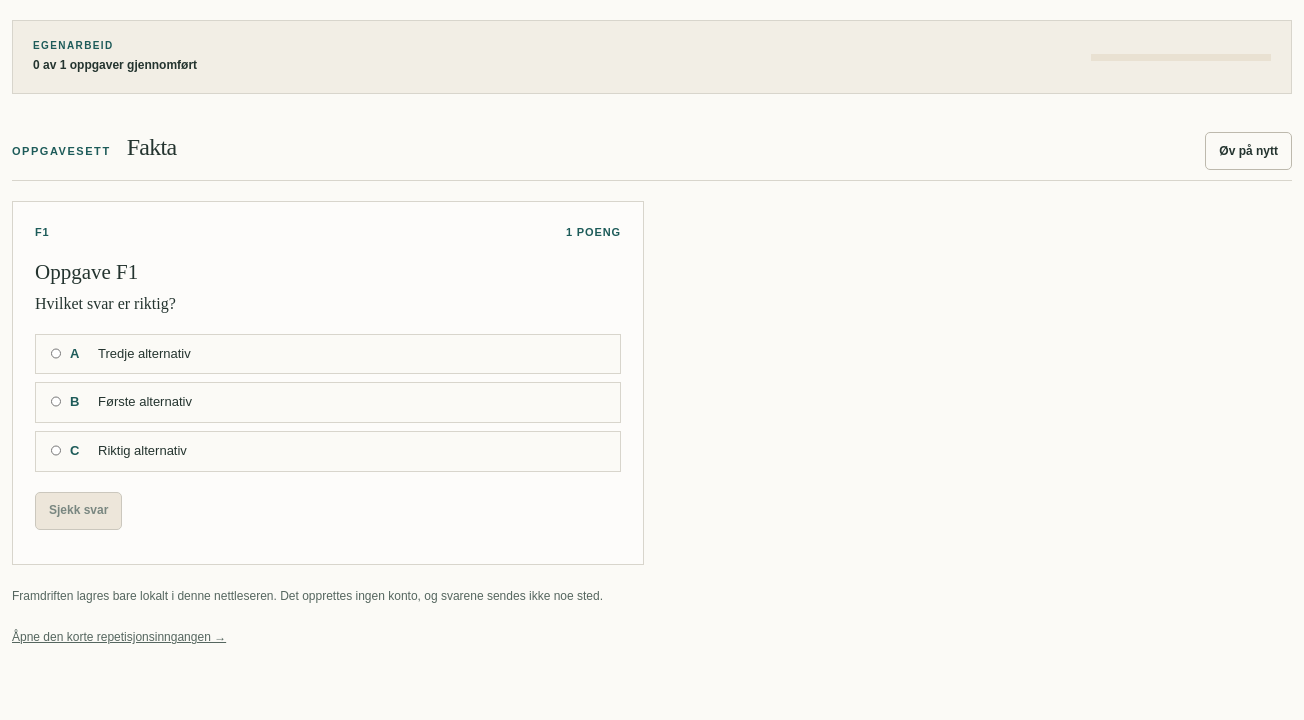
oppgavemotoren › viser forklaring ved et nytt reelt forsøk og kunngjør responsen som status
Expected: the text "0 av 1 oppgaver gjennomført" is shown, [33,58,197,72]
Click the radio button labelled "B Første alternativ": [56, 402] box [51,395,61,408]
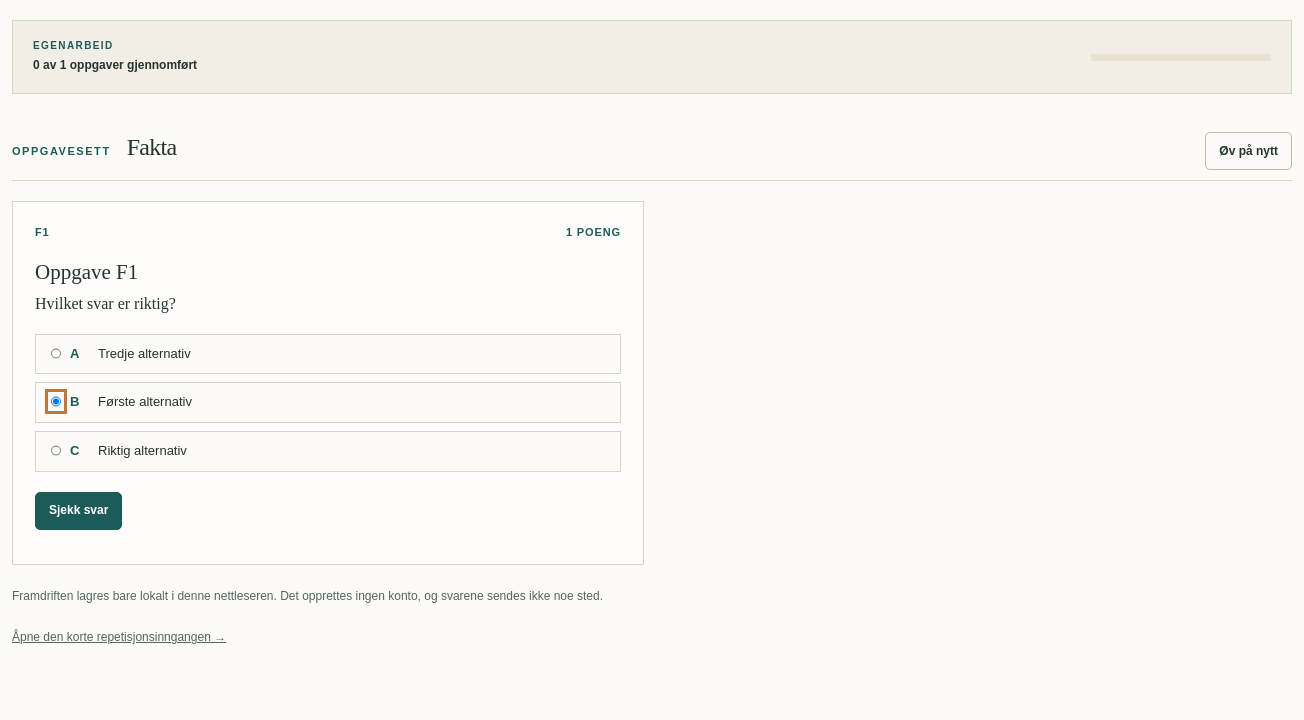
Click the button "Sjekk svar": [79, 511] box [35,492,122,530]
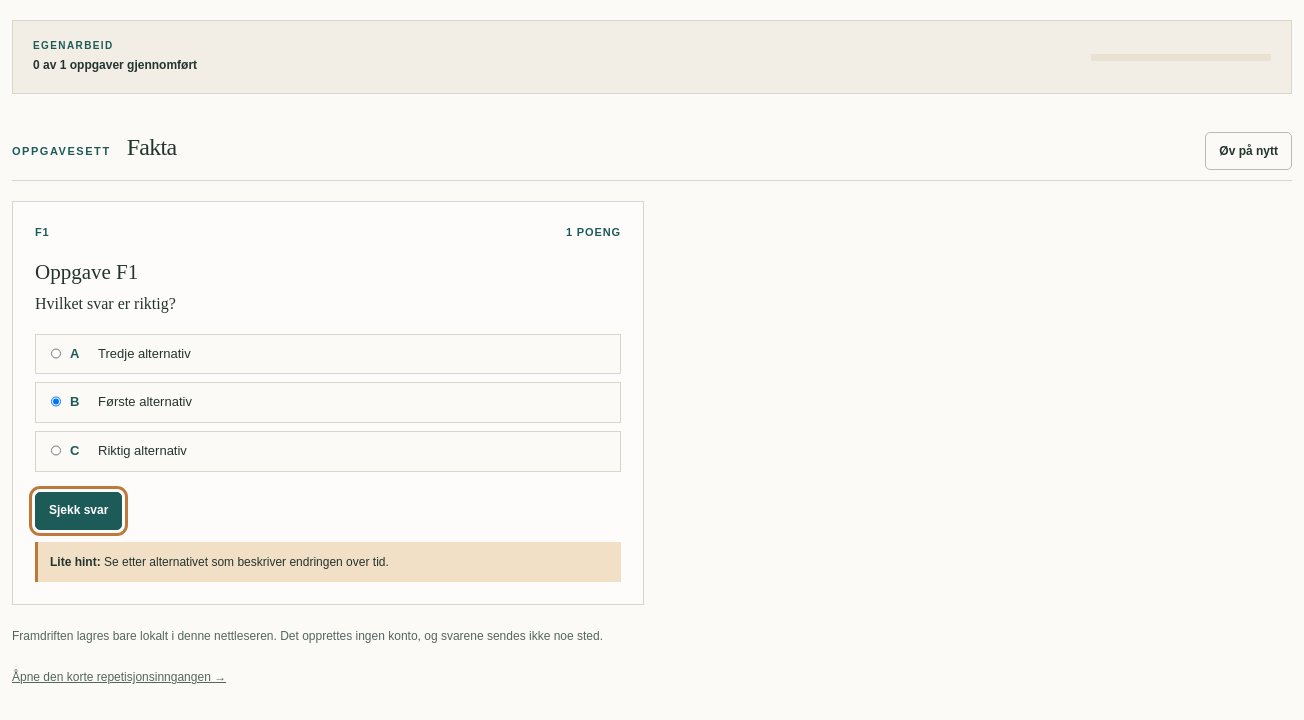
Click the radio button labelled "A Tredje alternativ": [56, 353] box [51,346,61,360]
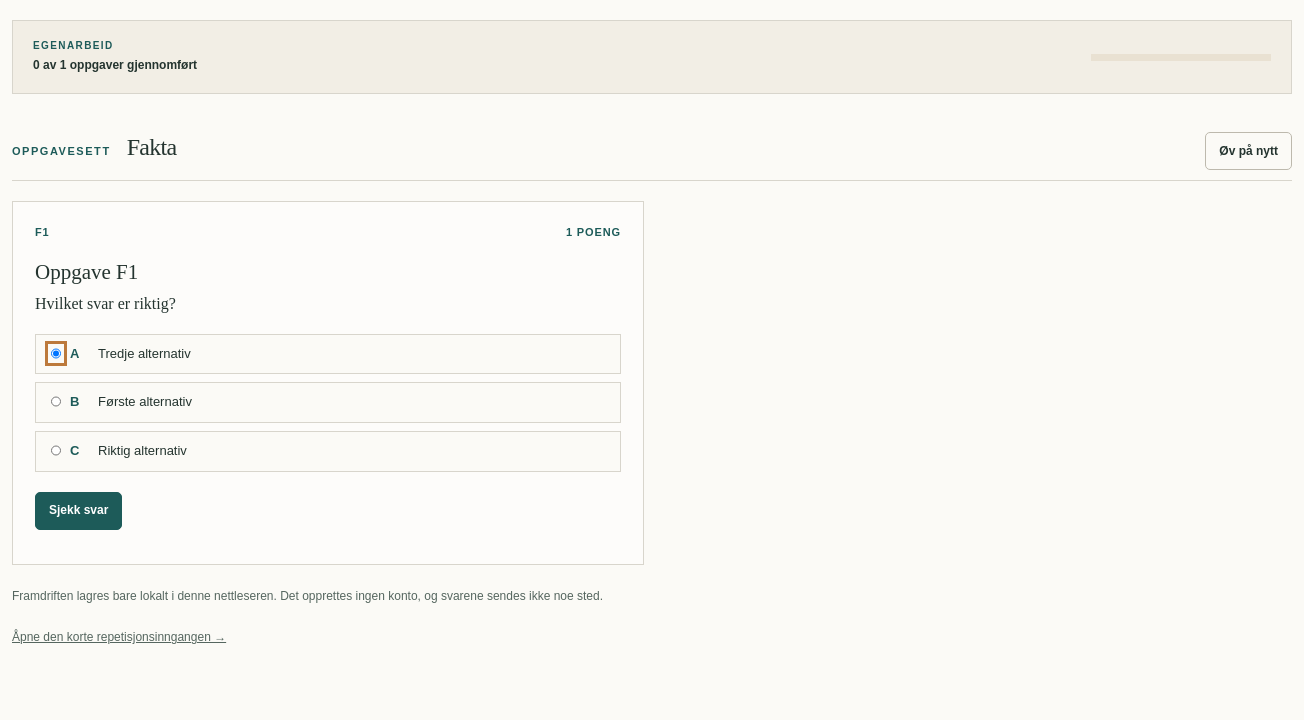
Click the button "Sjekk svar": [79, 511] box [35,492,122,530]
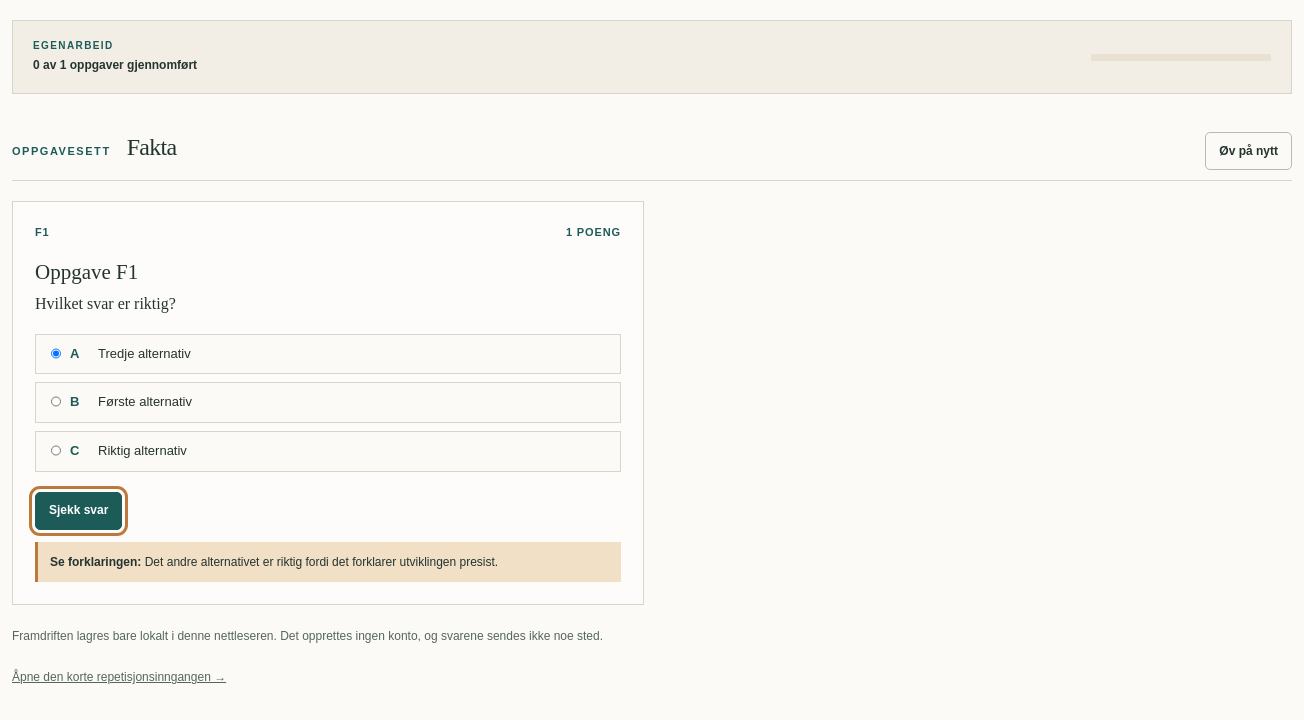
Now the text "Det andre alternativet er riktig fordi det forklarer utviklingen presist." is shown, box [145,555,498,569]
